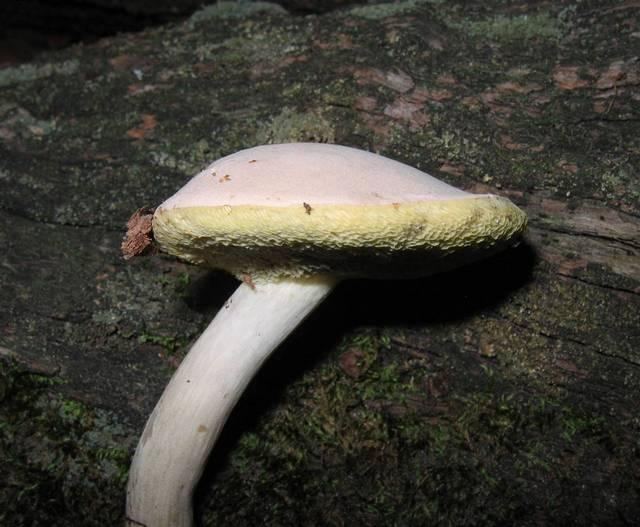edible_mushroom: (120, 139, 529, 526)
